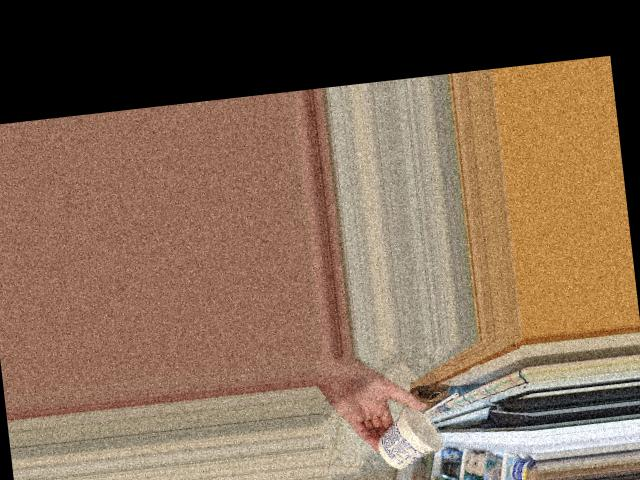cotage: (372, 405, 445, 466)
